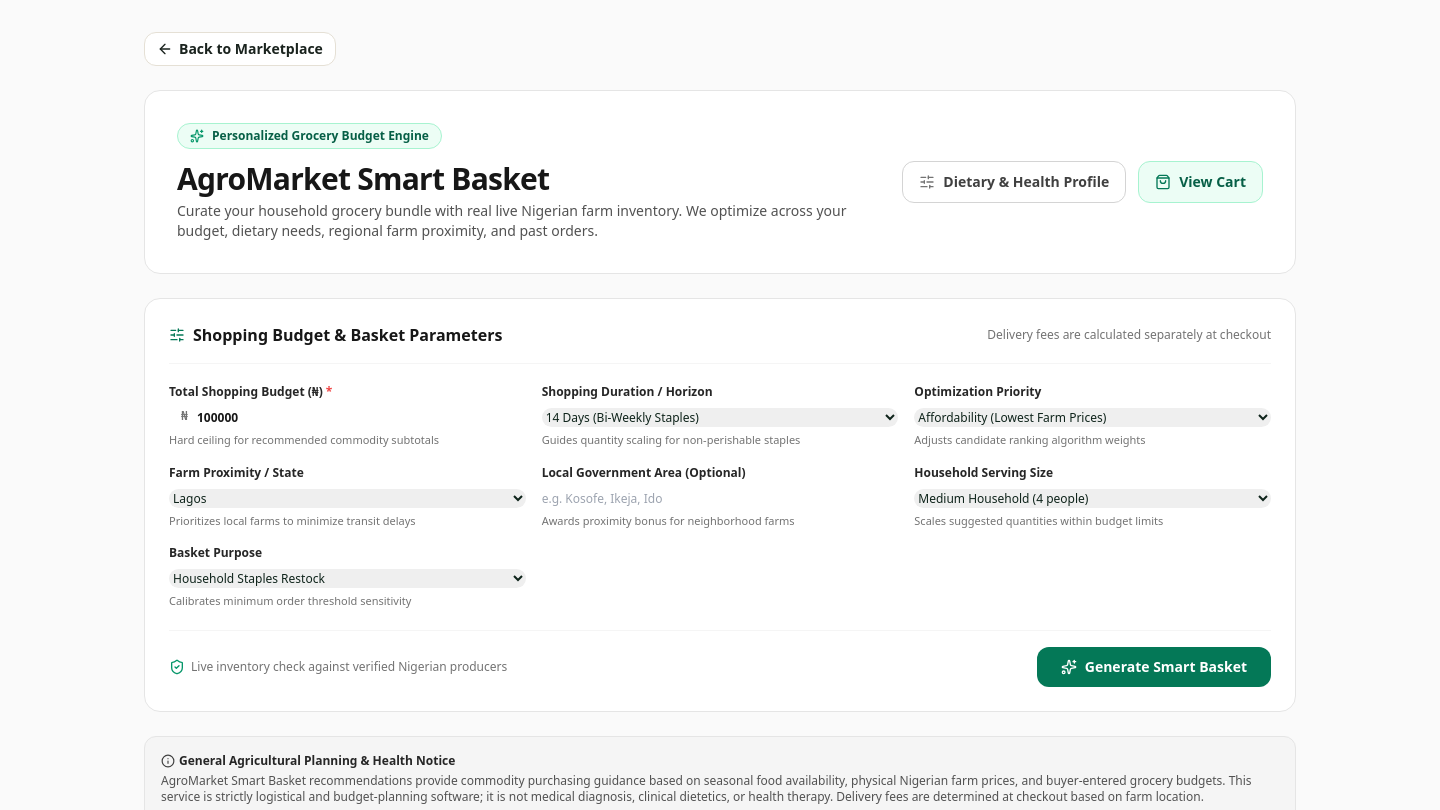
Test case: SmartBasketView UI Component Suite › 3. Basket Generation & Visual Result Rendering › shows a truthful warning and empty state when 0 items can be recommended (never false success)
The width and height of the screenshot is (1440, 810).
Click the button "Generate Smart Basket" at (1154, 666), box x1=1037 y1=646 x2=1271 y2=686
(page scrolled)
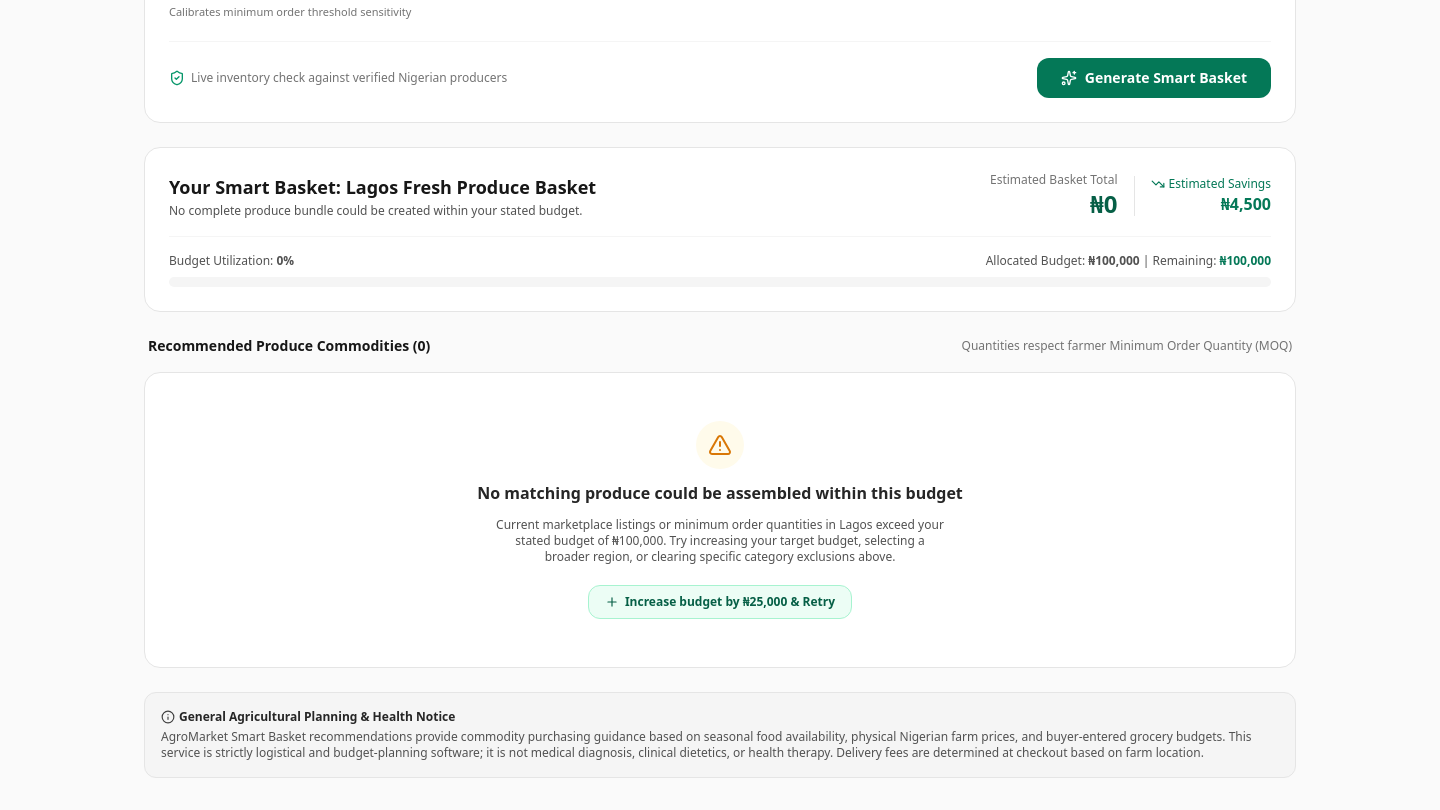
Expected: the text "No matching produce could be assembled within this budget" is shown, x1=477 y1=482 x2=963 y2=504
